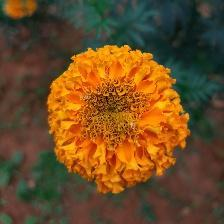marigold: (46, 43, 193, 194)
